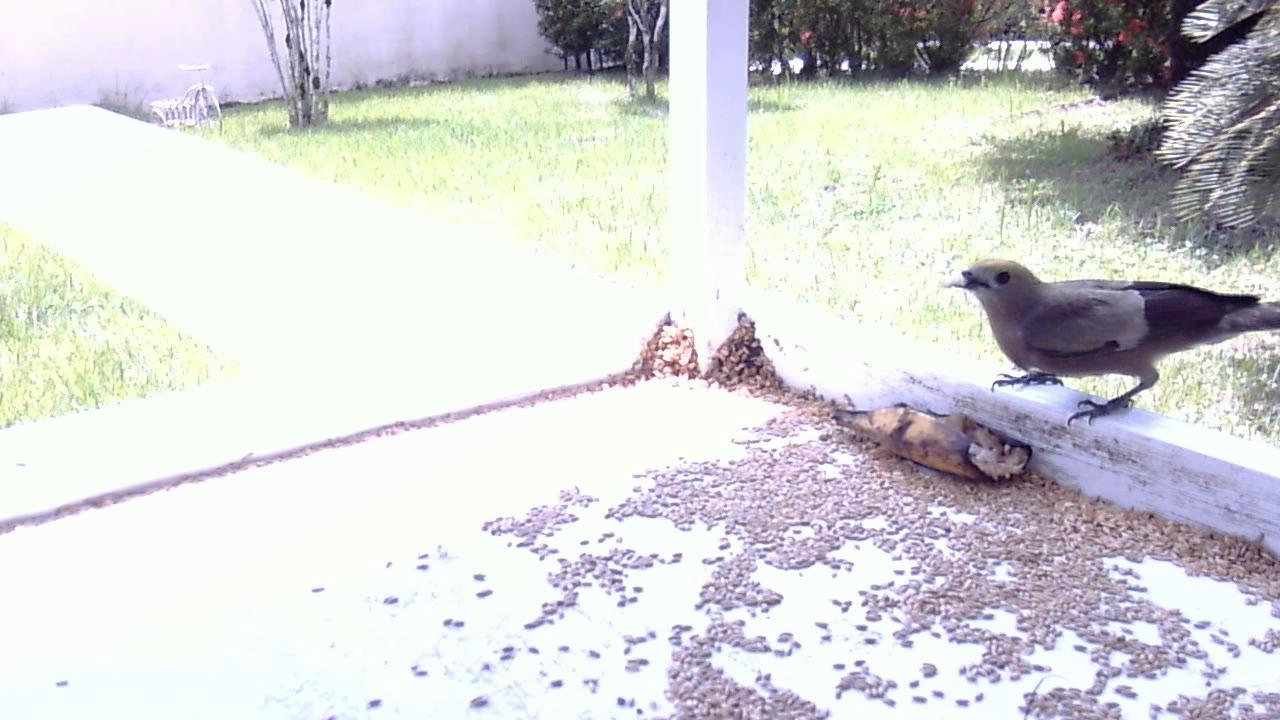sanhaco_do_coqueiro: (931, 248, 1270, 436)
